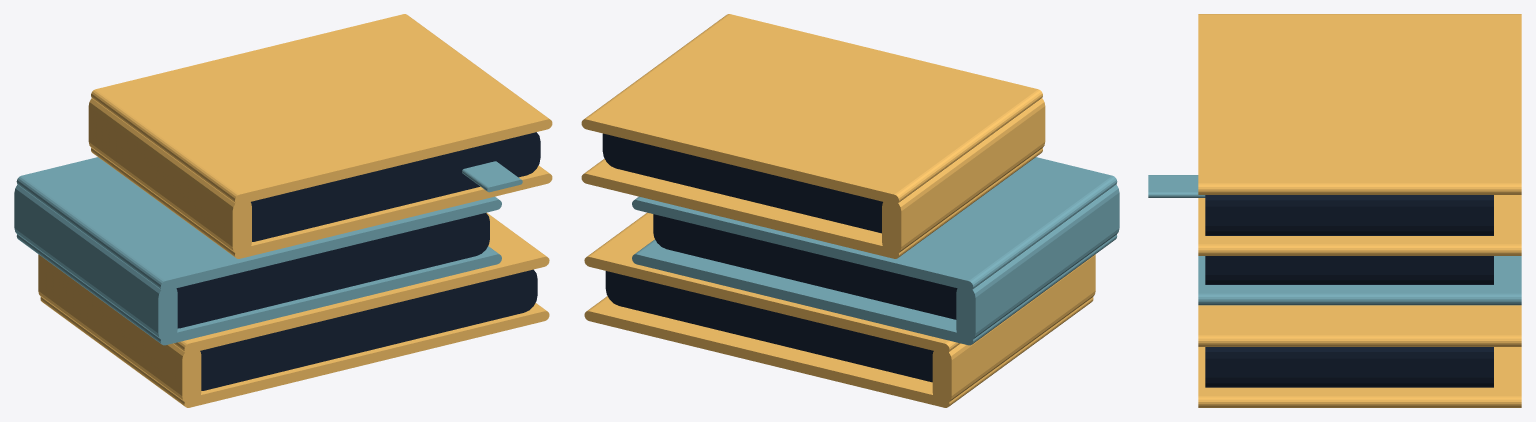
The model's file is books.glb.
3 renders of one model, left to right at view 1: azimuth 30°, elevation 25°; view 2: azimuth 150°, elevation 25°; view 3: azimuth 270°, elevation 25°, orthographic. The views are drawn at different scales.
Parts seen in each view (by area): view 1: cover 2 0.175, cover 1 0.175, pages 0, pages 1, pages 2, spine 2, spine 1, spine 0, cover 0 0.175, cover 0 0, cover 1 0, cover 2 0 (+1 smaller); view 2: cover 2 0.175, cover 1 0.175, pages 0, pages 1, pages 2, cover 0 0, spine 1, cover 1 0, spine 2, cover 2 0, spine 0, cover 0 0.175; view 3: cover 2 0.175, cover 0 0.175, pages 0, pages 2, pages 1, cover 0 0, cover 2 0, cover 1 0, ribbon.
Boxes of the visible parts, left/top/right/bottom form: cover 2 0.175: left=91, top=14, right=552, bottom=204; cover 1 0.175: left=16, top=157, right=501, bottom=290; pages 0: left=200, top=269, right=537, bottom=390; pages 1: left=176, top=213, right=489, bottom=328; pages 2: left=251, top=132, right=540, bottom=241; spine 2: left=88, top=98, right=251, bottom=254; spine 1: left=14, top=184, right=177, bottom=341; spine 0: left=38, top=254, right=201, bottom=403; cover 0 0.175: left=173, top=212, right=549, bottom=353; cover 0 0: left=40, top=297, right=549, bottom=407; cover 1 0: left=16, top=234, right=501, bottom=345; cover 2 0: left=91, top=148, right=552, bottom=258; cover 2 0.175: left=581, top=14, right=1042, bottom=204; cover 1 0.175: left=632, top=157, right=1117, bottom=290; pages 0: left=605, top=271, right=933, bottom=382; pages 1: left=653, top=214, right=957, bottom=319; pages 2: left=602, top=133, right=882, bottom=233; cover 0 0: left=584, top=296, right=1093, bottom=407; spine 1: left=956, top=184, right=1119, bottom=341; cover 1 0: left=632, top=234, right=1117, bottom=345; spine 2: left=882, top=98, right=1045, bottom=254; cover 2 0: left=581, top=148, right=1042, bottom=258; spine 0: left=932, top=254, right=1095, bottom=403; cover 0 0.175: left=584, top=212, right=960, bottom=353; cover 2 0.175: left=1198, top=14, right=1521, bottom=194; cover 0 0.175: left=1198, top=305, right=1521, bottom=346; pages 0: left=1205, top=347, right=1493, bottom=387; pages 2: left=1205, top=195, right=1493, bottom=235; pages 1: left=1205, top=256, right=1493, bottom=284; cover 0 0: left=1198, top=347, right=1521, bottom=407; cover 2 0: left=1198, top=195, right=1521, bottom=255; cover 1 0: left=1198, top=256, right=1521, bottom=305; ribbon: left=1148, top=175, right=1205, bottom=197.
Size of the model in its own units: 1.33 by 0.647 by 0.97.
